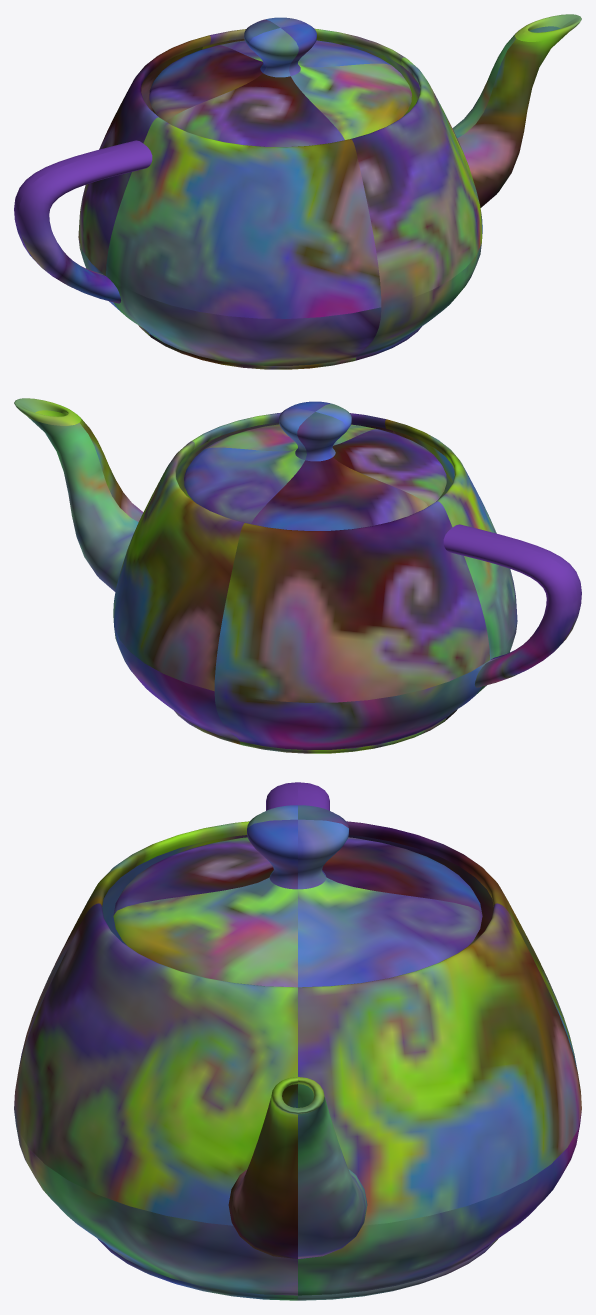
Rendered from teapot.obj.
3 renders of one model, top to bottom at view 1: azimuth 30°, elevation 25°; view 2: azimuth 150°, elevation 25°; view 3: azimuth 270°, elevation 25°, orthographic. The views are drawn at different scales.
Visible parts, largest first — view 1: teapot; view 2: teapot; view 3: teapot.
Part boxes in pixels (<box>): teapot: <box>14,14,581,369</box>; teapot: <box>14,398,581,753</box>; teapot: <box>14,782,581,1300</box>.
Bounding box in the file's own units: 6.43 × 3.15 × 4.
Materials: 1 (1 with a texture image).
